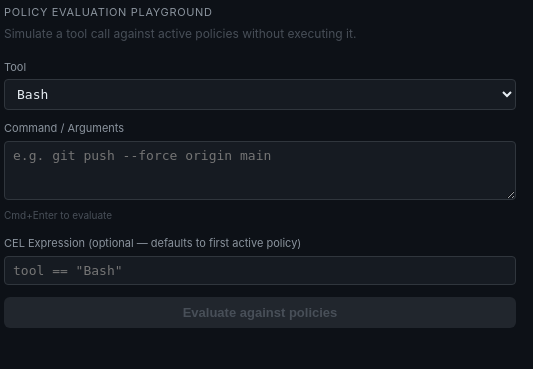
Test: PolicyPlayground — offline error state › shows daemon-required error when fetch rejects, no result rendered
Type "git push --force" into the text box with placeholder "e.g. git push --force origin main".
click(260, 170); type("git push --force")  # box [4,140,516,200]
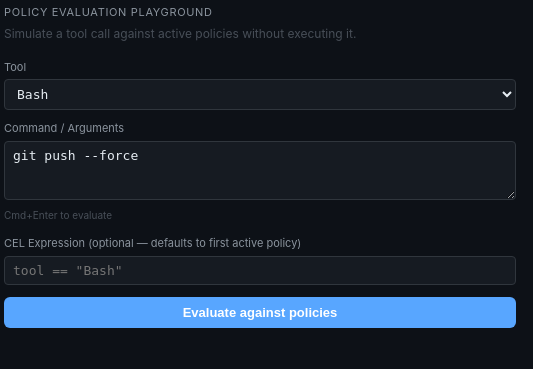
Click the button "Evaluate against policies".
click(260, 312)  # box [4,296,516,328]
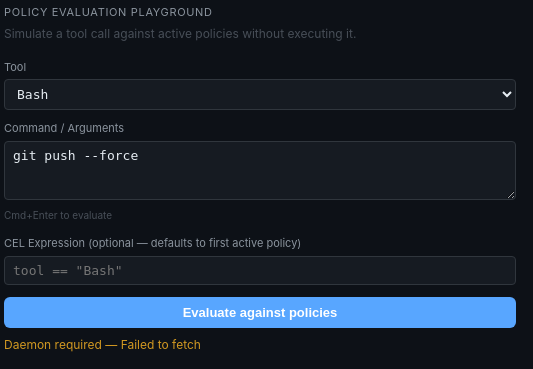
Check: the text "Daemon required — Failed to fetch" is shown, box [4,336,201,352]
